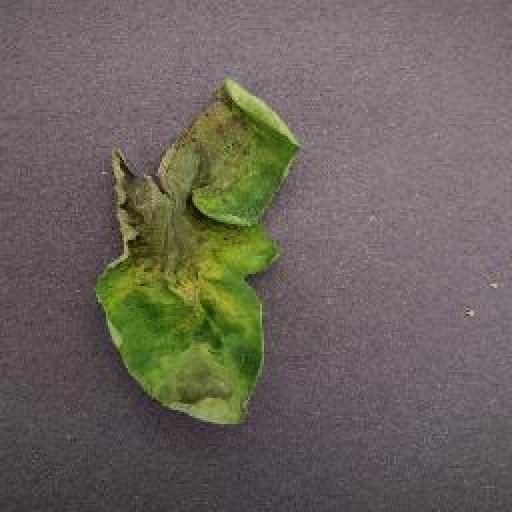disease_tomato: (92, 78, 302, 428)
